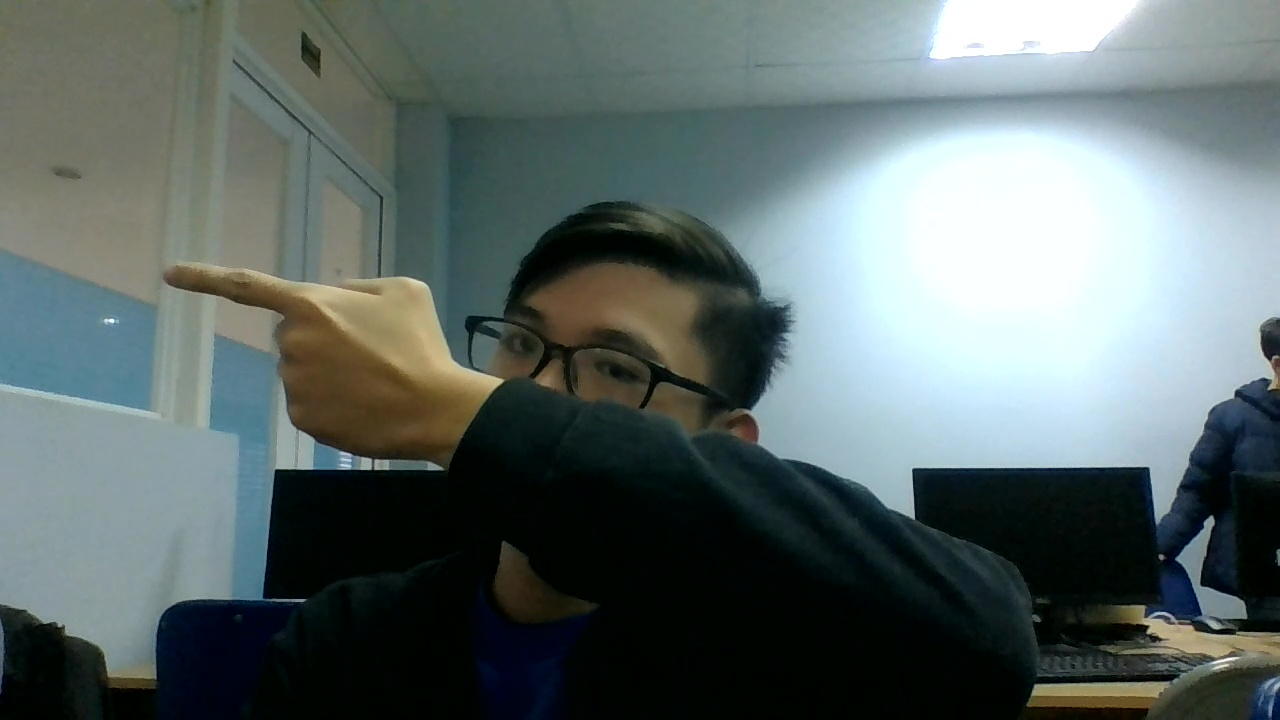right: (171, 258, 456, 452)
